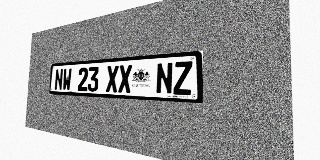2: (78, 67, 88, 91)
3: (87, 67, 99, 92)
N: (156, 62, 173, 94), (54, 69, 63, 90)
W: (62, 68, 72, 91)
X: (118, 65, 132, 93), (106, 65, 119, 92)
Z: (173, 61, 192, 95)
